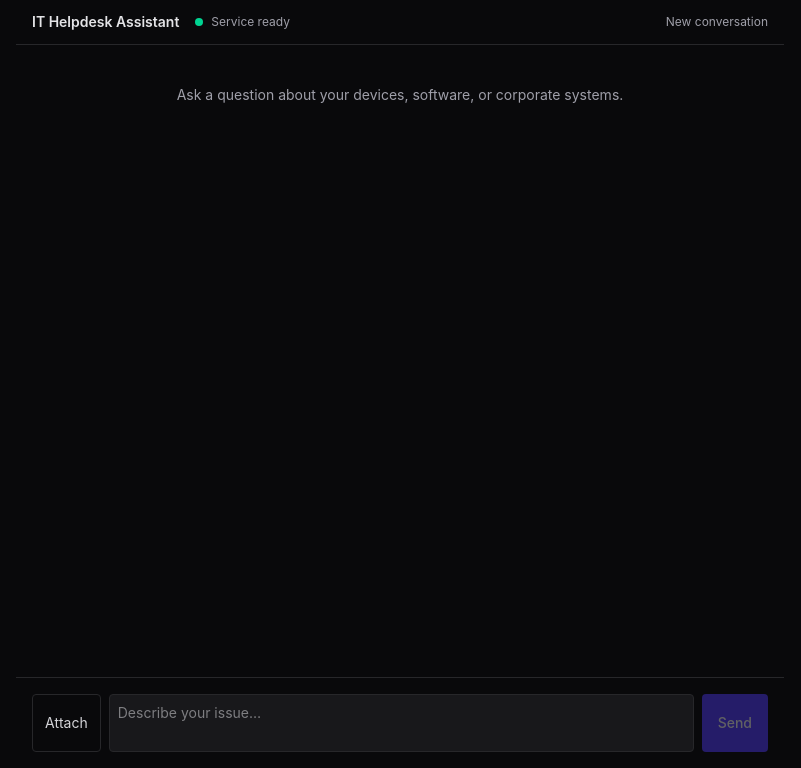
it: App when the session has expired › tells the user to sign in when a message cannot be authenticated
In the text box: (401, 723) 109,694 -> 694,752, type "My laptop will not boot"
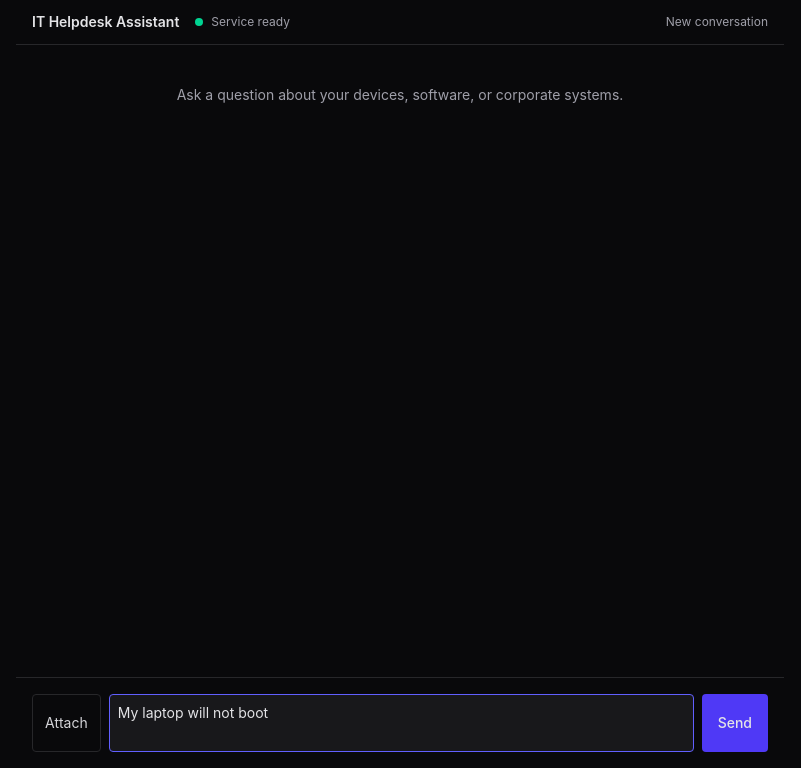
Click the button "Send": (735, 723) 702,694 -> 768,752
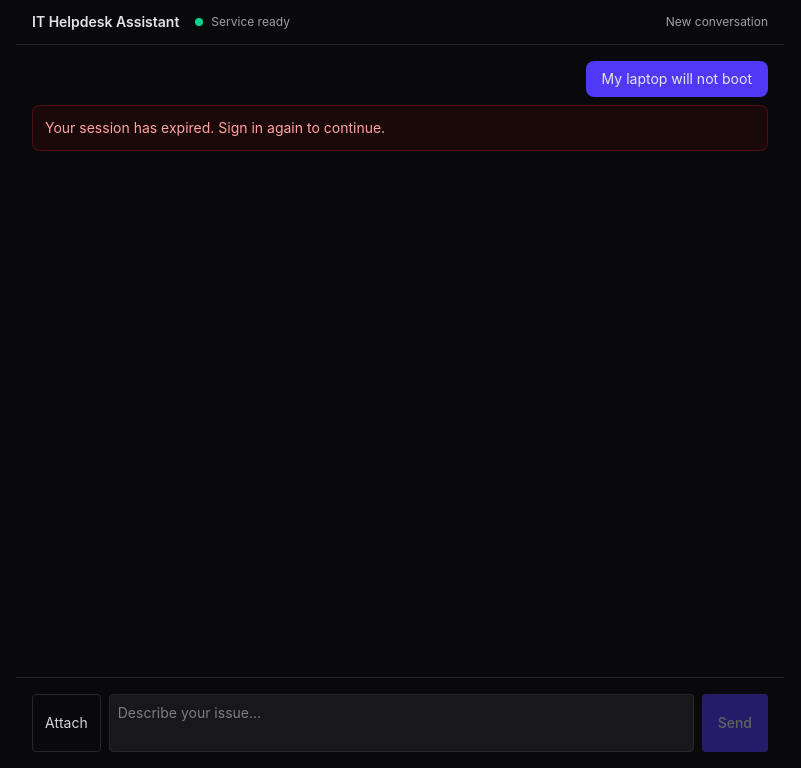
Now the text "Your session has expired. Sign in again to continue." is shown, box 32,105 -> 768,151
